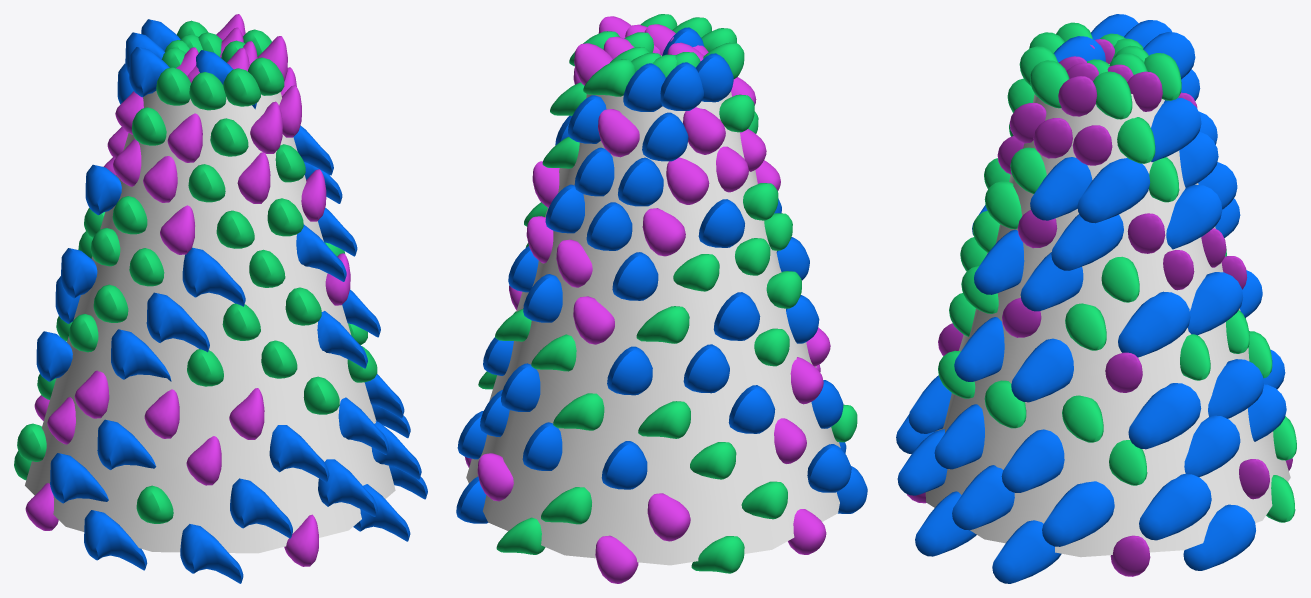
The model's file is toothpick.glb.
3 views of the same model, side by side, from view 1: azimuth 30°, elevation 25°; view 2: azimuth 150°, elevation 25°; view 3: azimuth 270°, elevation 25° (orthographic). The views are drawn at different scales.
Parts seen in each view (by area): view 1: toothpick; view 2: toothpick; view 3: toothpick.
Boxes of the visible parts, x1,y1,x2,y2 form: toothpick: (14, 14, 427, 583); toothpick: (456, 14, 867, 583); toothpick: (896, 14, 1296, 583).
Bounding box in the file's own units: 3.17 × 4.05 × 3.2.
